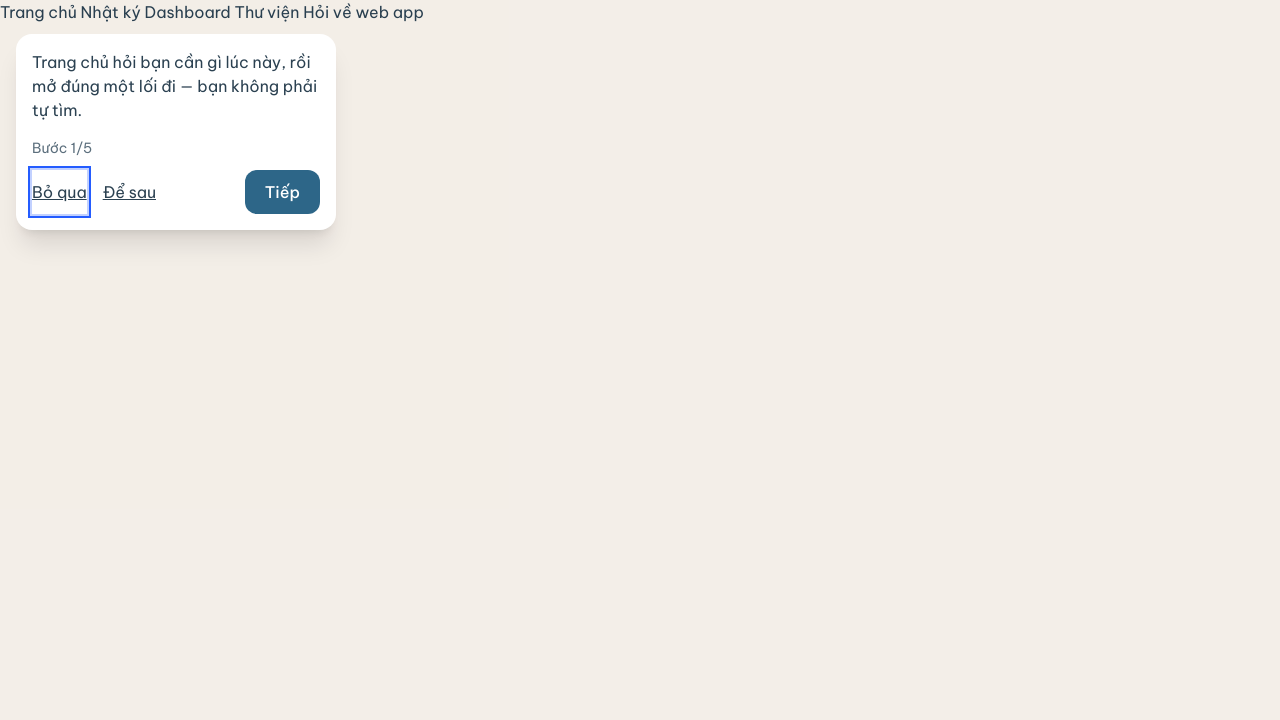
Scenario: OnboardingTour — điều hướng bước › đúng năm bước, có chỉ báo đang ở bước nào
Expected: the text "Bước 1/5" is shown, [32,139,92,157]
Click the button "Tiếp": [282, 192] box [245,170,320,214]
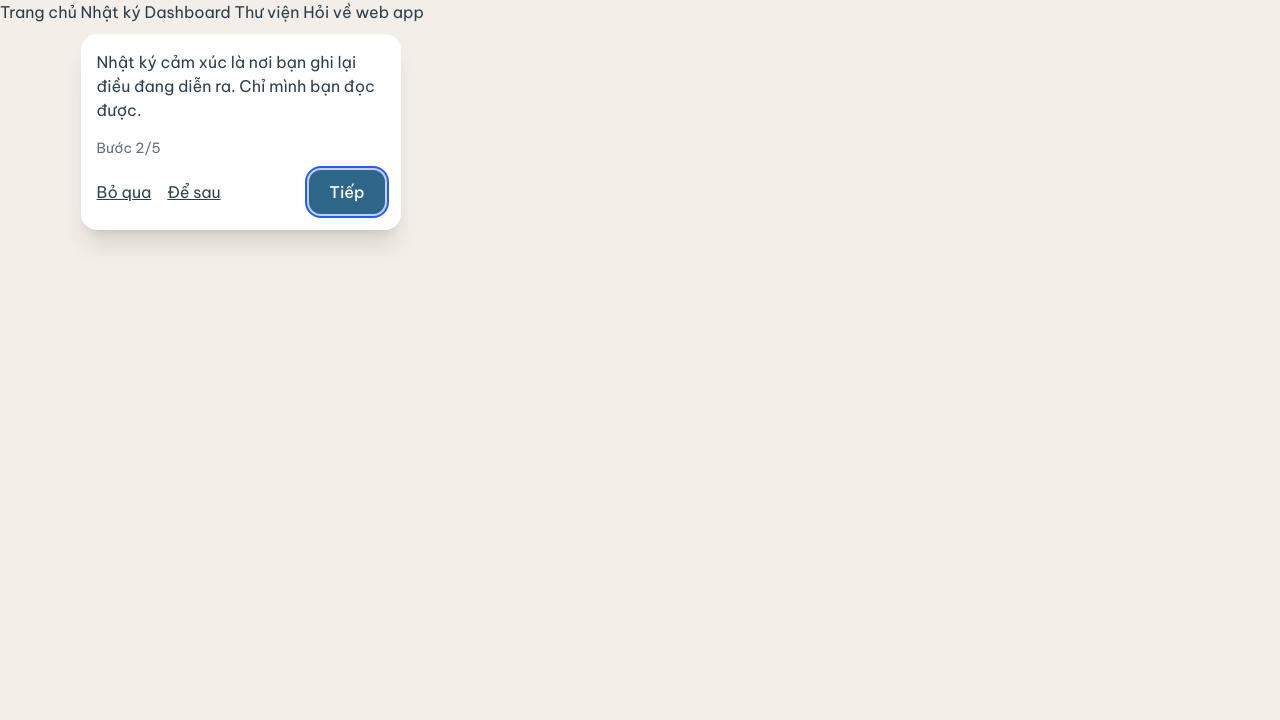
Click the button "Tiếp": [347, 192] box [309,170,385,214]
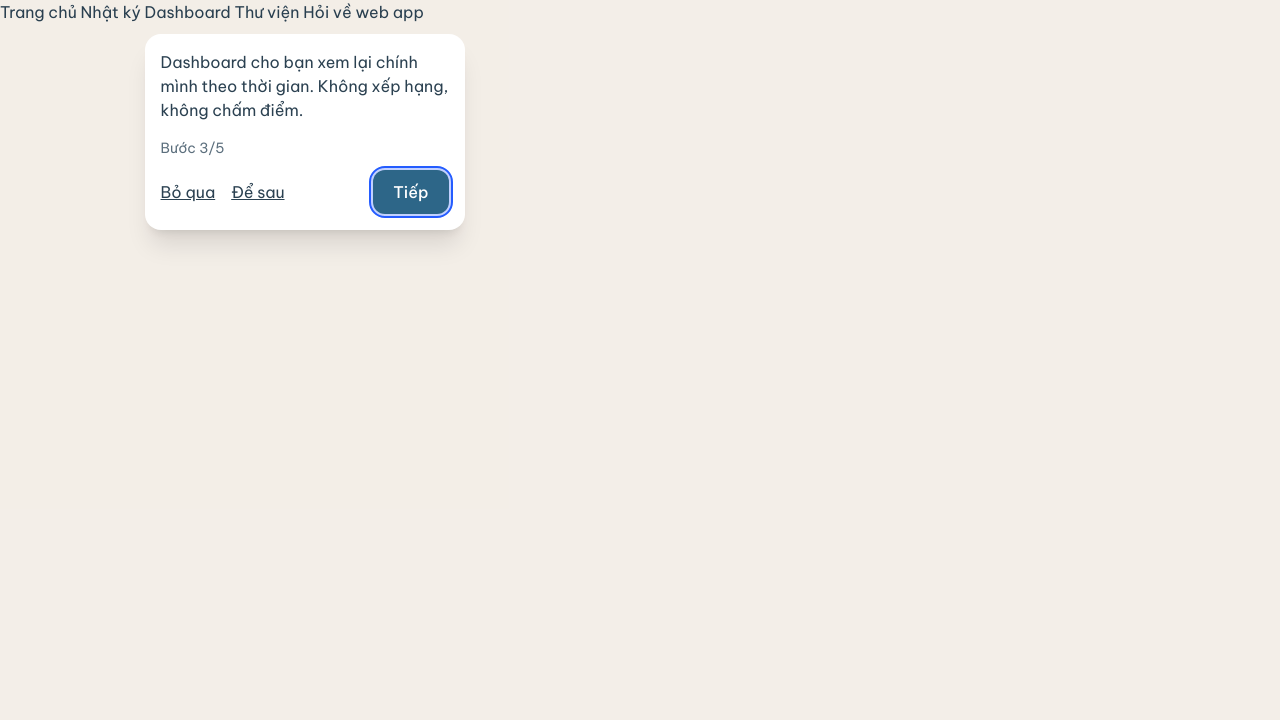
Click the button "Tiếp": [411, 192] box [373,170,448,214]
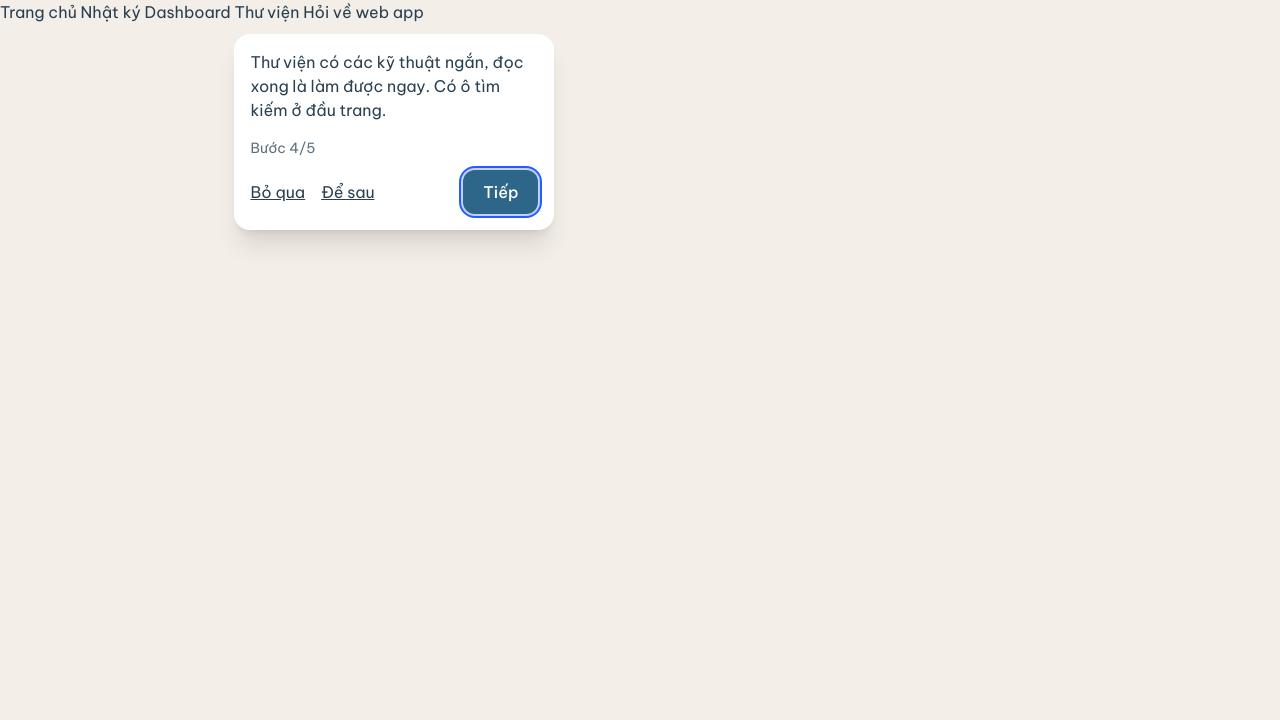
Click the button "Tiếp": [501, 192] box [463,170,538,214]
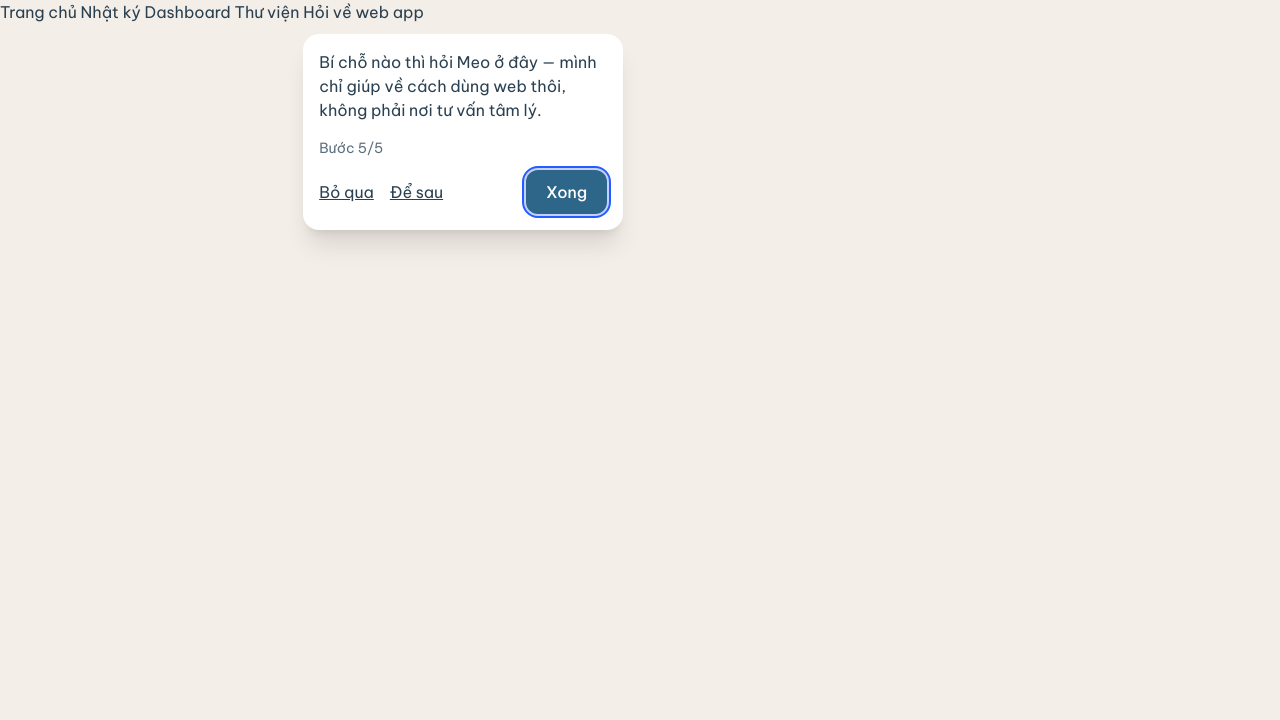
Expected: the text "Bước 5/5" is shown, [319,139,383,157]
Expected: the button "Xong" is shown, [526,170,607,214]
